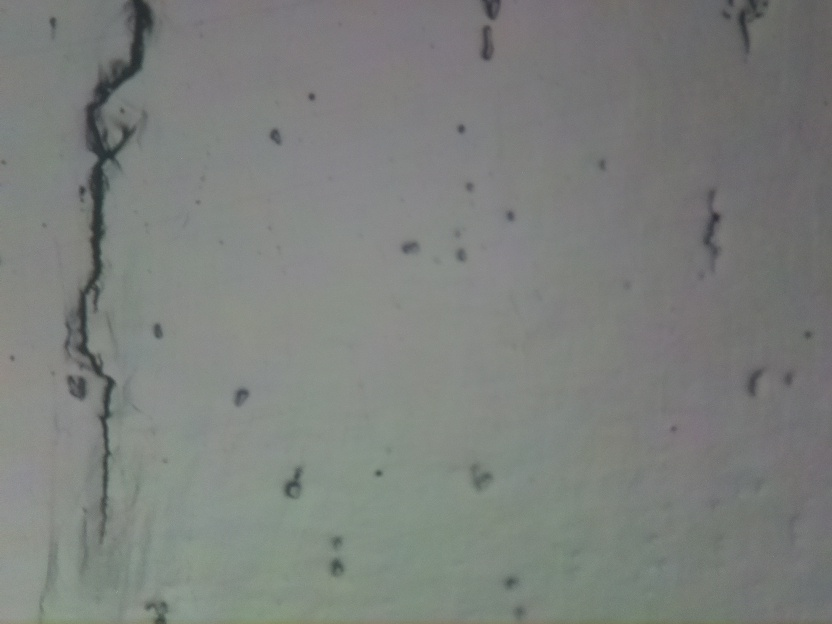crack: (74, 0, 151, 544)
